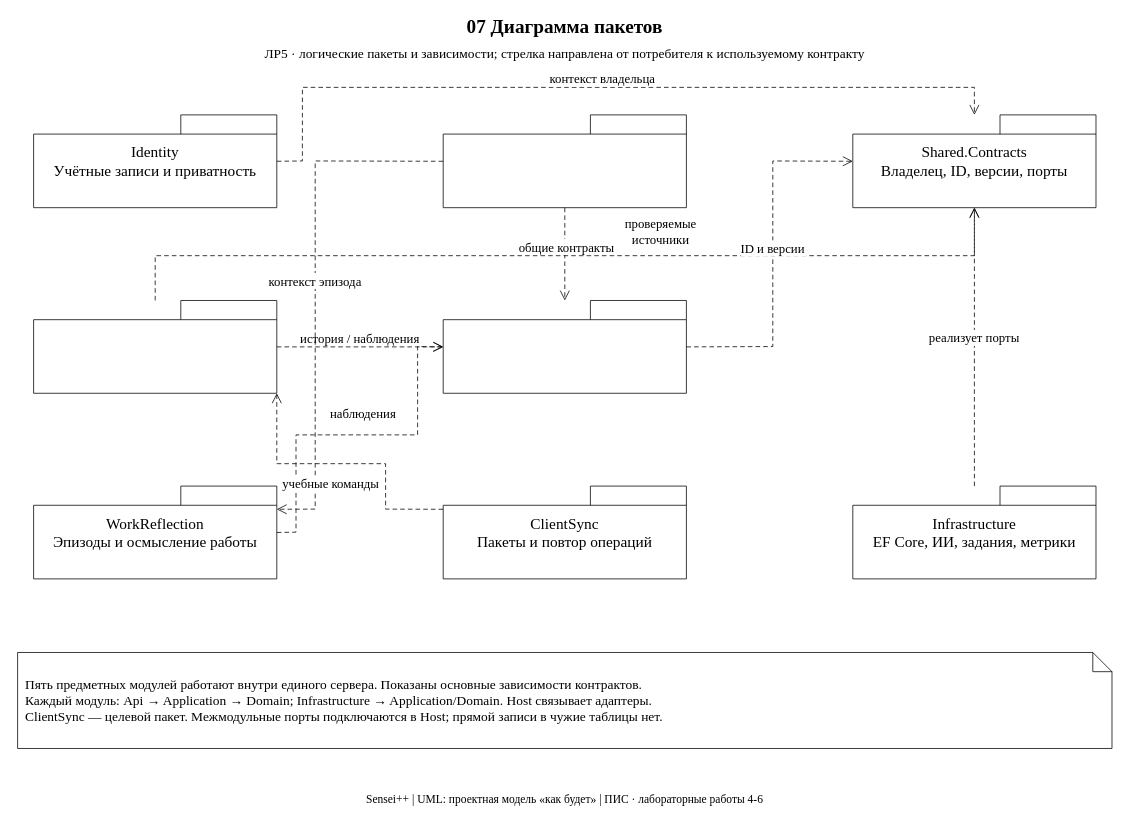
Some shapes in this 1129 by 819 pixel diagram are drawn without their labels. The centre of each missing label's shape, as x and y in pixels:
Evidence Свидетельства и профиль: pixel 564 346
Experience Редакции опыта и представления: pixel 564 161
Learning Контент, практика и маршруты: pixel 155 346
